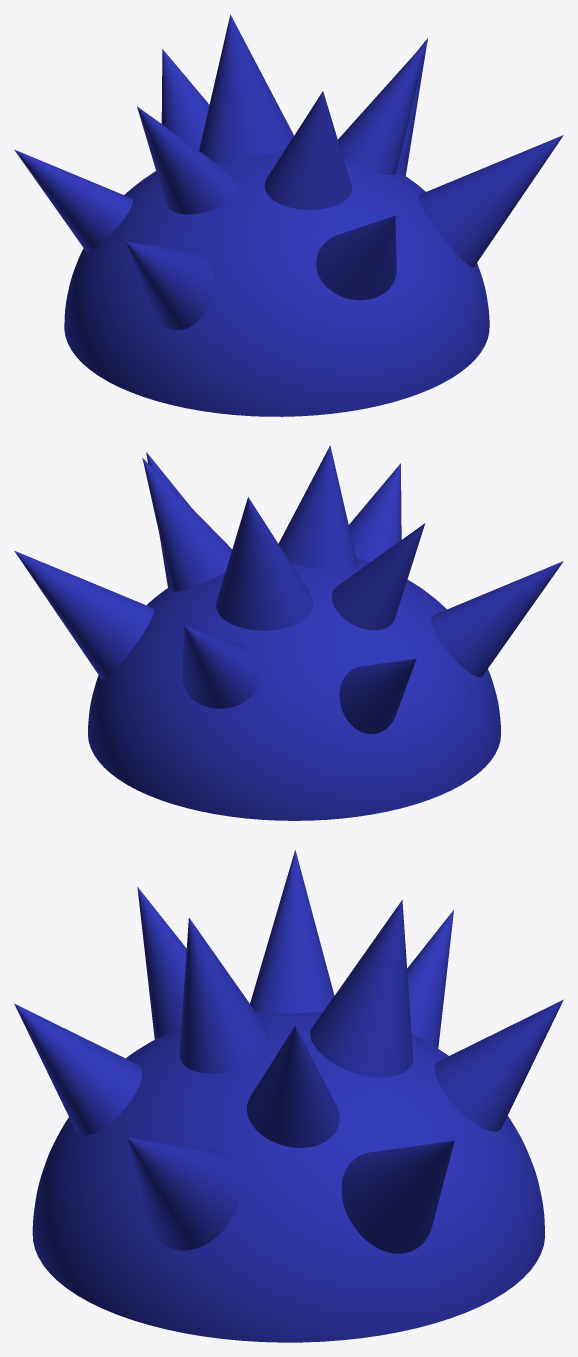
The model's file is mine.fbx.
3 renders of one model, top to bottom at view 1: azimuth 30°, elevation 25°; view 2: azimuth 150°, elevation 25°; view 3: azimuth 270°, elevation 25°, orthographic. The views are drawn at different scales.
Visible parts, largest first — view 1: root (×11); view 2: root (×10); view 3: root (×11).
Part boxes in pixels (x1,y1,x2,y2): root (×11): (14,14,563,416); root (×10): (14,445,563,820); root (×11): (14,850,563,1342).
Size of the model in its own units: 0.7569 by 0.4632 by 0.6888.
7 materials, 7 textured.
